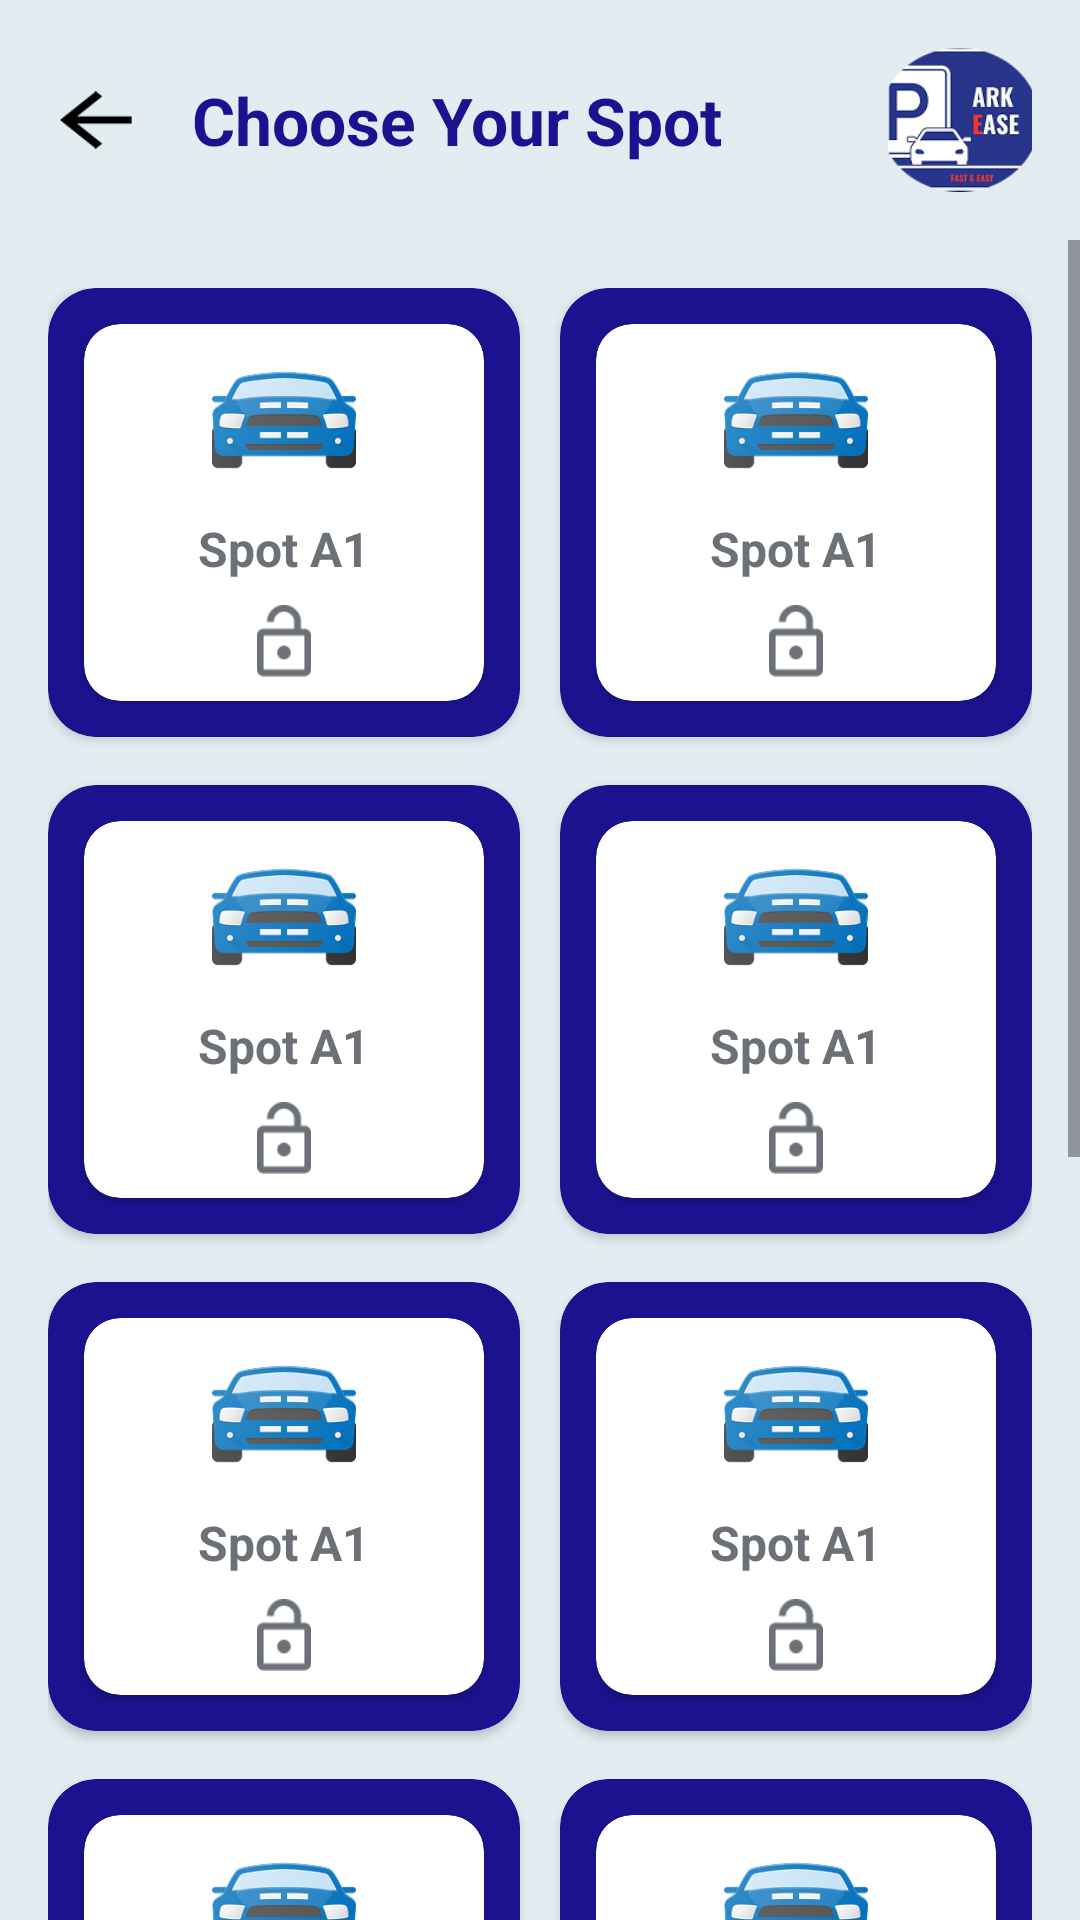

Where to tap for icons on this 1080 × 1920 app screen, as [x,y]:
Back: [96,120]
unlocked: [284,641], [796,641], [284,1138], [796,1138], [284,1635], [796,1635]
